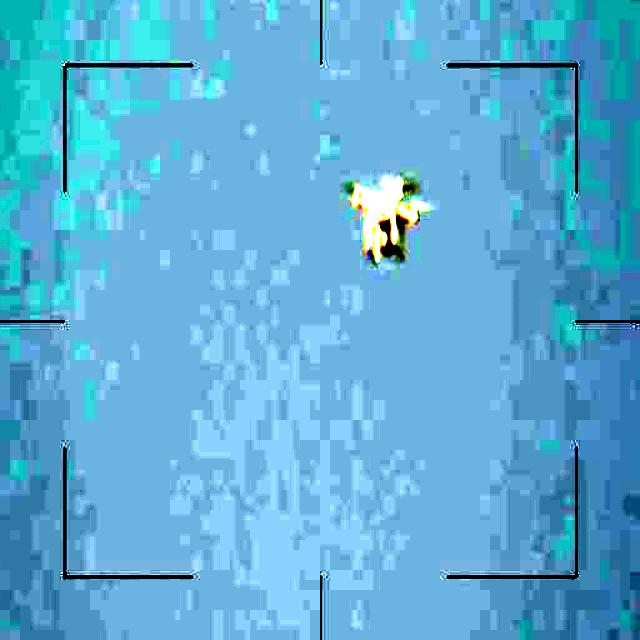bird: (342, 172, 430, 265)
